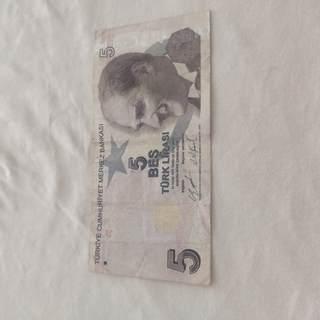5TLFront: (86, 10, 212, 288)
